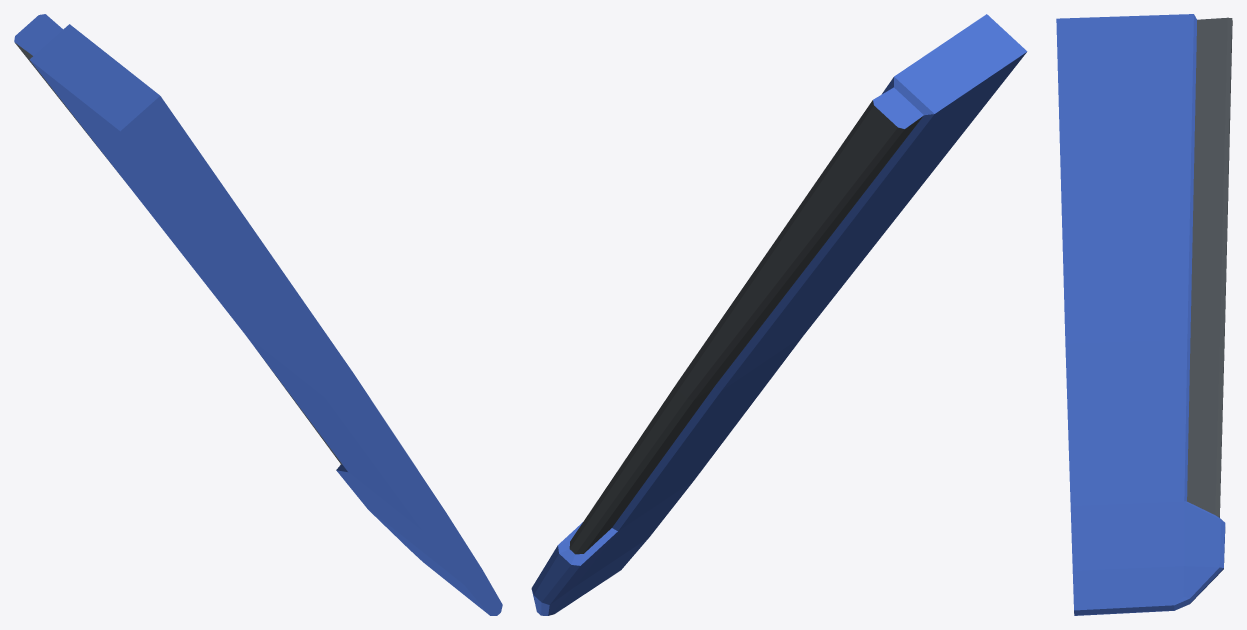
File: Fighter_06_Auxillary_Wing_Left_Blue.fbx
The picture shows the model from 3 angles, left to right: view 1: azimuth 30°, elevation 25°; view 2: azimuth 150°, elevation 25°; view 3: azimuth 270°, elevation 25°; orthographic projection. The views are drawn at different scales.
Visible parts, largest first — view 1: Fighter_06_Auxillary_Wing_Left_Blue; view 2: Fighter_06_Auxillary_Wing_Left_Blue; view 3: Fighter_06_Auxillary_Wing_Left_Blue.
Boxes of the visible parts, x1,y1,x2,y2 form: Fighter_06_Auxillary_Wing_Left_Blue: [14, 14, 502, 615]; Fighter_06_Auxillary_Wing_Left_Blue: [531, 14, 1027, 615]; Fighter_06_Auxillary_Wing_Left_Blue: [1056, 14, 1232, 615].
Size of the model in its own units: 276 by 414 by 140.
1 material, 1 textured.
